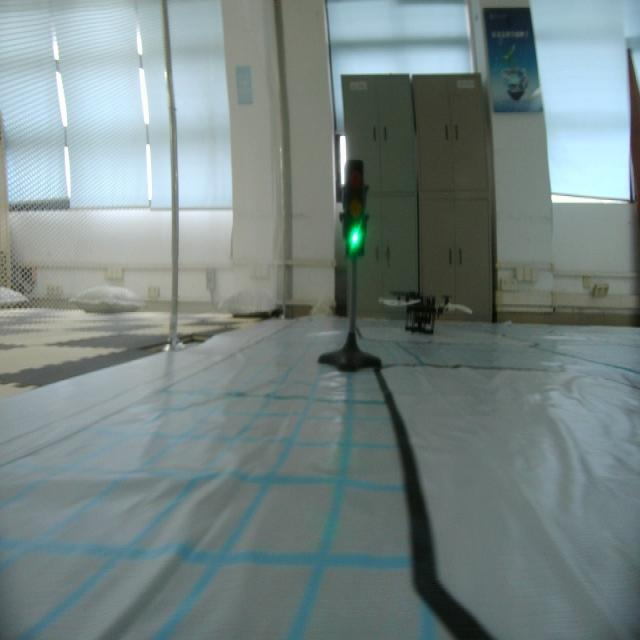green: (334, 157, 376, 262)
